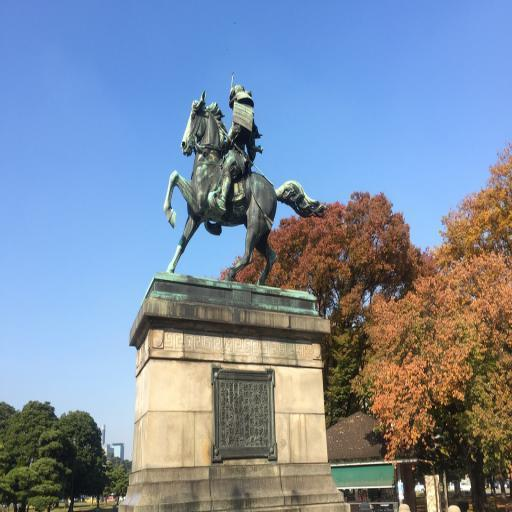horse: (164, 86, 328, 290)
